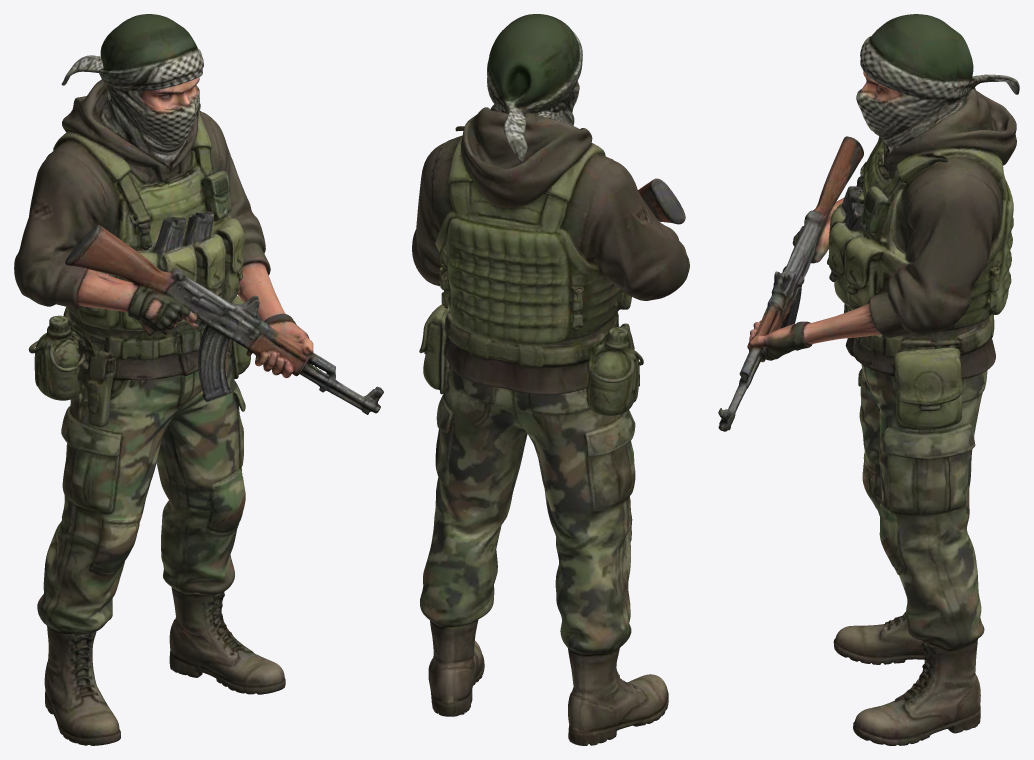
Rendered from enemy.glb.
3 views of the same model, side by side, from view 1: azimuth 30°, elevation 25°; view 2: azimuth 150°, elevation 25°; view 3: azimuth 270°, elevation 25° (orthographic).
Bounding box in the file's own units: 0.8037 × 1.9 × 0.7664.
Materials: 1 (1 with a texture image).
